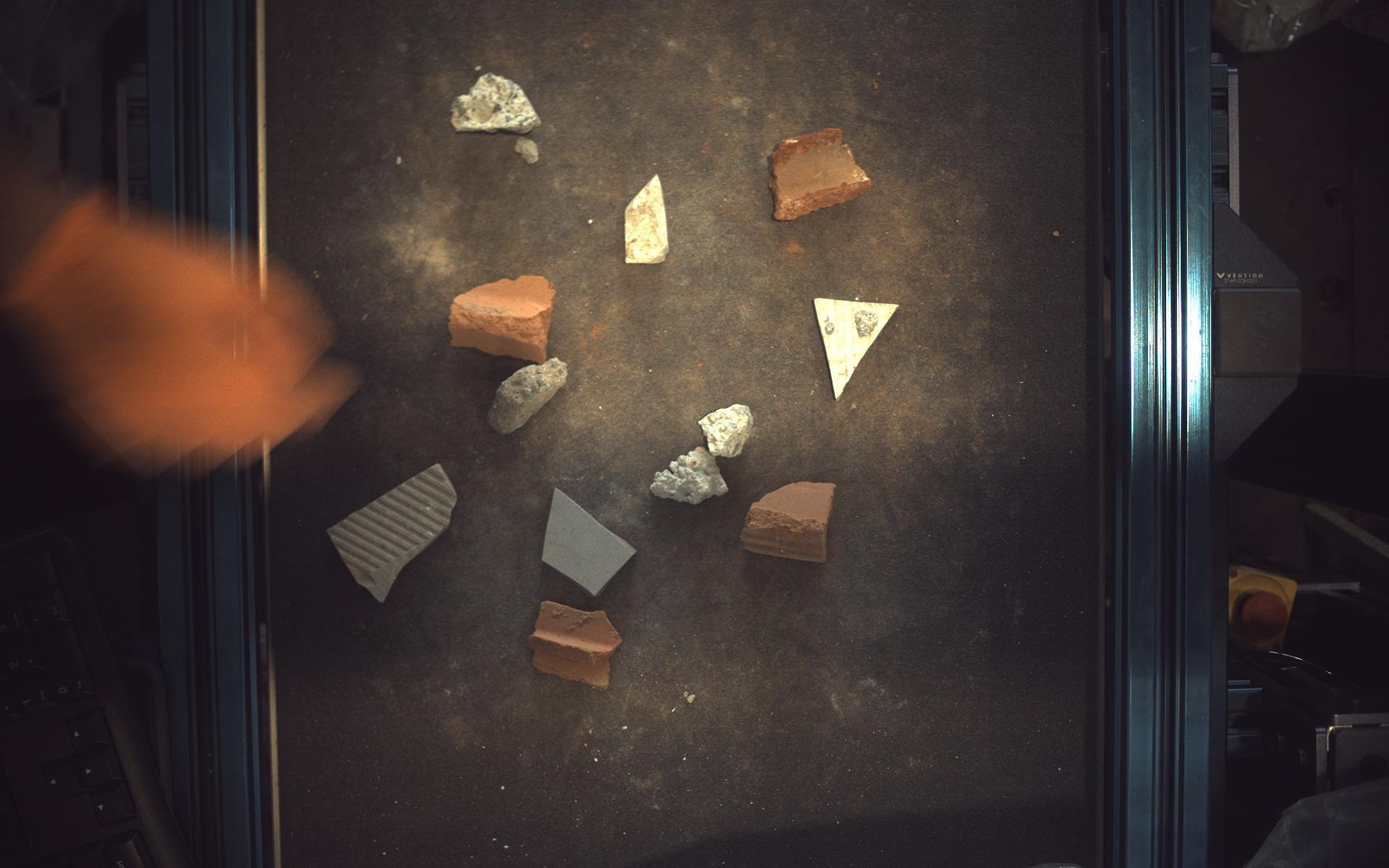brick: (449, 275, 556, 363), (770, 127, 872, 219), (529, 602, 621, 690), (742, 482, 837, 563)
concrete: (488, 357, 568, 434), (451, 72, 541, 133), (651, 447, 729, 504), (700, 404, 755, 458)
tile: (328, 464, 457, 603), (543, 488, 637, 596), (816, 297, 899, 399), (625, 175, 669, 263)
